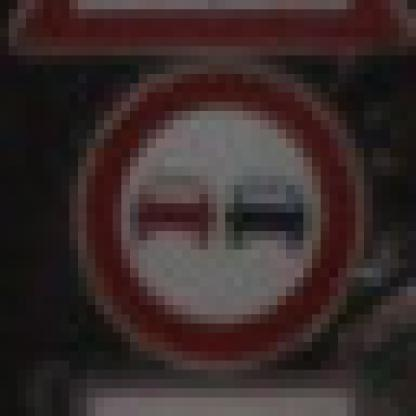No Overtaking: (53, 47, 365, 362)
